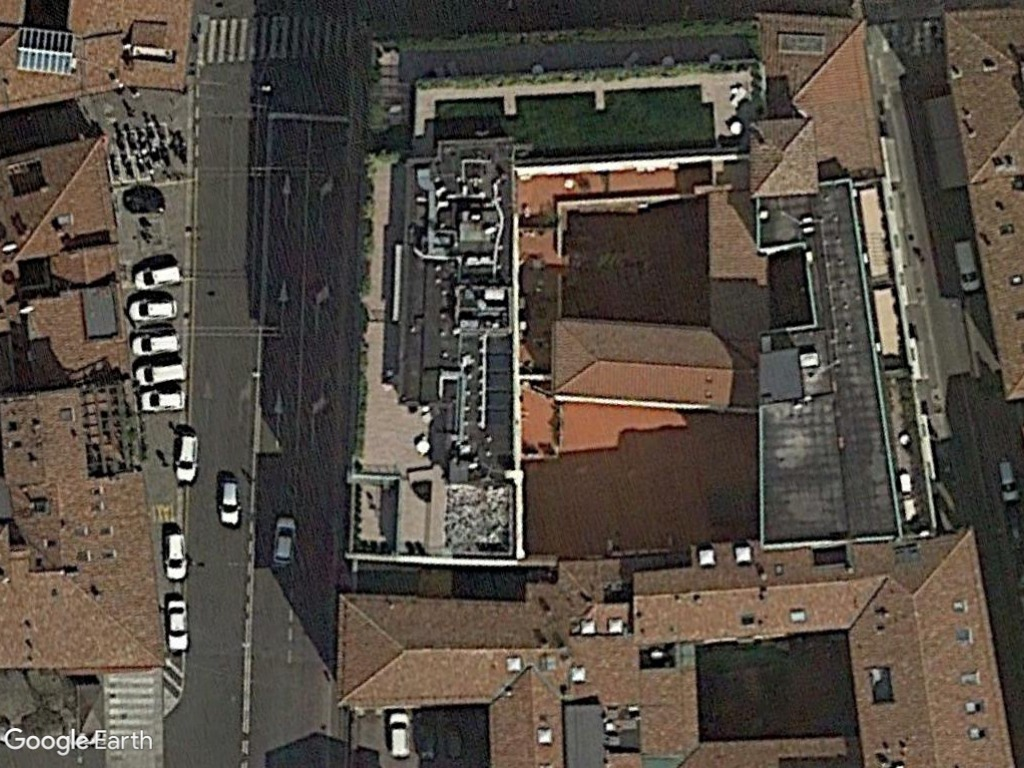car: (950, 237, 984, 298), (159, 527, 191, 585), (163, 595, 193, 656), (214, 474, 245, 533), (270, 513, 300, 570), (171, 430, 201, 487), (132, 260, 184, 292), (385, 708, 415, 763), (132, 359, 187, 389), (129, 329, 182, 360), (125, 296, 181, 324), (136, 387, 190, 415), (994, 458, 1021, 505)
